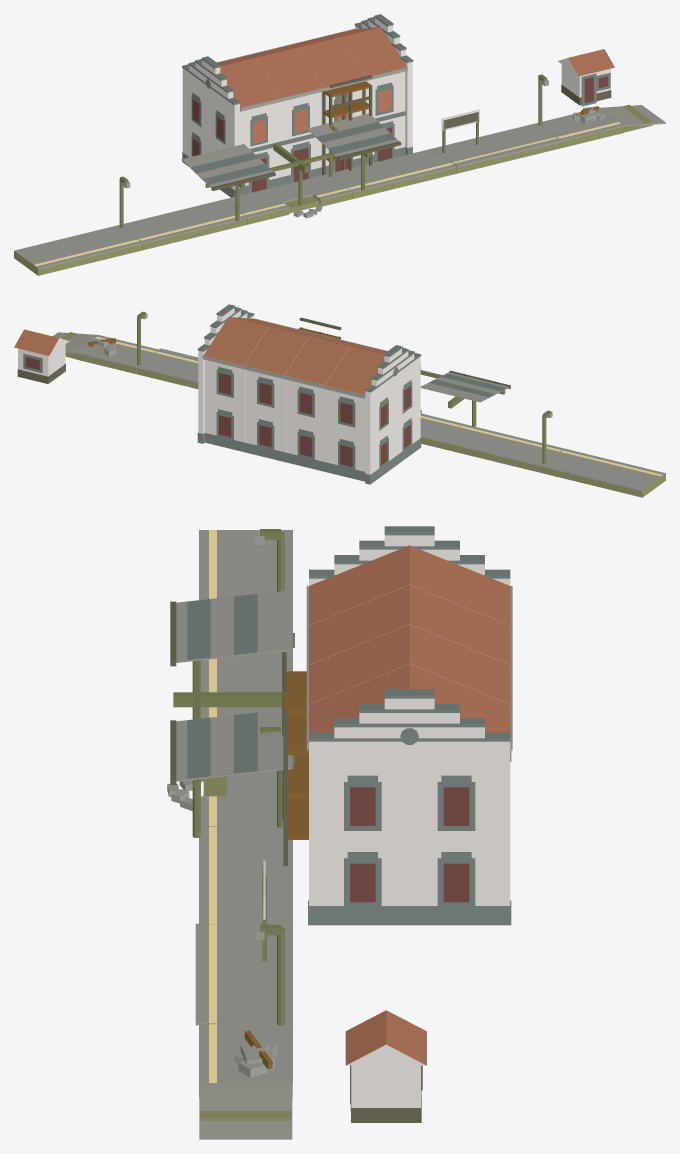
Rendered from SM_EstacionNules_v4_LOD1.fbx.
3 views of the same model, one above another, from view 1: azimuth 30°, elevation 25°; view 2: azimuth 150°, elevation 25°; view 3: azimuth 270°, elevation 25° (orthographic). The views are drawn at different scales.
Visible parts, largest first — view 1: SM_bloques.estacion_nules_v4_LOD1; view 2: SM_bloques.estacion_nules_v4_LOD1; view 3: SM_bloques.estacion_nules_v4_LOD1.
Boxes of the visible parts, x1,y1,x2,y2 form: SM_bloques.estacion_nules_v4_LOD1: (14, 14, 665, 275); SM_bloques.estacion_nules_v4_LOD1: (14, 304, 665, 497); SM_bloques.estacion_nules_v4_LOD1: (167, 526, 512, 1139).
Bounding box in the file's own units: 59.99 × 11 × 14.75.
